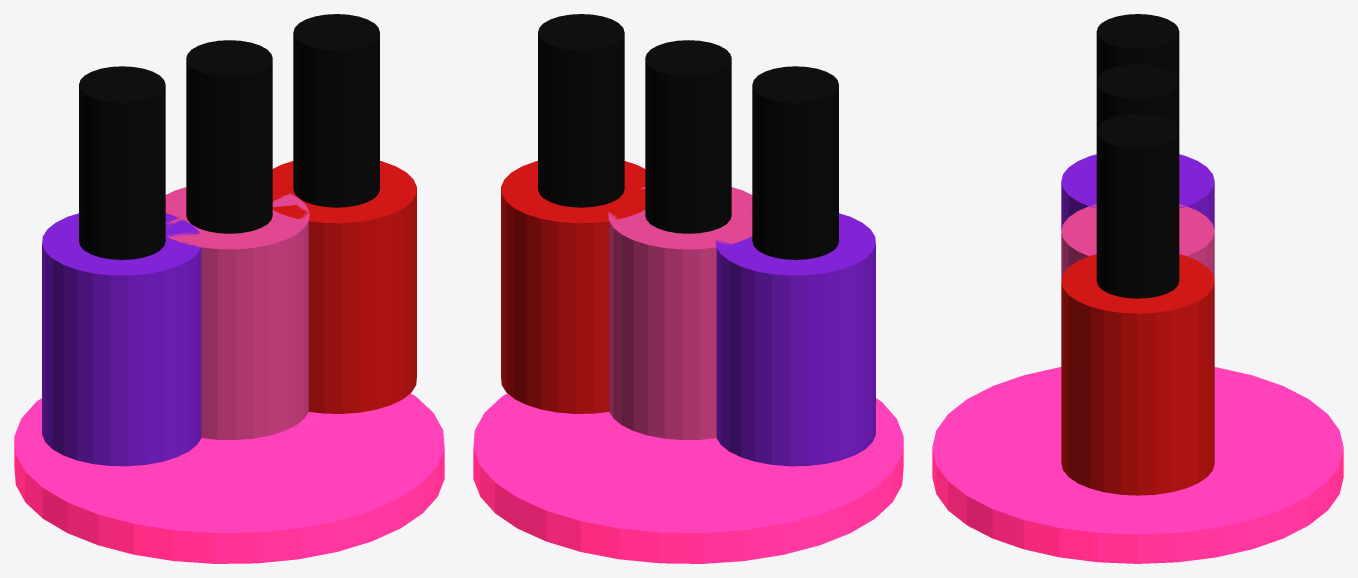
The model's file is beauty_nail_set.dae.
3 renders of one model, left to right at view 1: azimuth 30°, elevation 25°; view 2: azimuth 150°, elevation 25°; view 3: azimuth 270°, elevation 25°, orthographic. The views are drawn at different scales.
Parts seen in each view (by area): view 1: 03_19_Popular_Beauty_Nail_Set_ROOT_base, 03_19_Popular_Beauty_Nail_Set_part_05, 03_19_Popular_Beauty_Nail_Set_part_03, 03_19_Popular_Beauty_Nail_Set_part_01, 03_19_Popular_Beauty_Nail_Set_part_02, 03_19_Popular_Beauty_Nail_Set_part_06, 03_19_Popular_Beauty_Nail_Set_part_04; view 2: 03_19_Popular_Beauty_Nail_Set_ROOT_base, 03_19_Popular_Beauty_Nail_Set_part_05, 03_19_Popular_Beauty_Nail_Set_part_03, 03_19_Popular_Beauty_Nail_Set_part_01, 03_19_Popular_Beauty_Nail_Set_part_02, 03_19_Popular_Beauty_Nail_Set_part_06, 03_19_Popular_Beauty_Nail_Set_part_04; view 3: 03_19_Popular_Beauty_Nail_Set_ROOT_base, 03_19_Popular_Beauty_Nail_Set_part_03, 03_19_Popular_Beauty_Nail_Set_part_04, 03_19_Popular_Beauty_Nail_Set_part_06, 03_19_Popular_Beauty_Nail_Set_part_02, 03_19_Popular_Beauty_Nail_Set_part_05, 03_19_Popular_Beauty_Nail_Set_part_01.
Boxes of the visible parts, box(x1,y1,x2,y2) form: 03_19_Popular_Beauty_Nail_Set_ROOT_base: box(14, 393, 444, 563); 03_19_Popular_Beauty_Nail_Set_part_05: box(42, 213, 201, 466); 03_19_Popular_Beauty_Nail_Set_part_03: box(272, 161, 416, 413); 03_19_Popular_Beauty_Nail_Set_part_01: box(165, 187, 309, 439); 03_19_Popular_Beauty_Nail_Set_part_02: box(186, 40, 272, 233); 03_19_Popular_Beauty_Nail_Set_part_06: box(79, 66, 165, 259); 03_19_Popular_Beauty_Nail_Set_part_04: box(293, 14, 379, 207); 03_19_Popular_Beauty_Nail_Set_ROOT_base: box(473, 393, 903, 563); 03_19_Popular_Beauty_Nail_Set_part_05: box(715, 213, 875, 466); 03_19_Popular_Beauty_Nail_Set_part_03: box(501, 161, 645, 413); 03_19_Popular_Beauty_Nail_Set_part_01: box(608, 187, 752, 439); 03_19_Popular_Beauty_Nail_Set_part_02: box(645, 40, 731, 233); 03_19_Popular_Beauty_Nail_Set_part_06: box(752, 66, 838, 259); 03_19_Popular_Beauty_Nail_Set_part_04: box(538, 14, 624, 207); 03_19_Popular_Beauty_Nail_Set_ROOT_base: box(932, 367, 1343, 563); 03_19_Popular_Beauty_Nail_Set_part_03: box(1061, 254, 1214, 495); 03_19_Popular_Beauty_Nail_Set_part_04: box(1096, 114, 1179, 298); 03_19_Popular_Beauty_Nail_Set_part_06: box(1096, 14, 1179, 80); 03_19_Popular_Beauty_Nail_Set_part_02: box(1096, 64, 1179, 130); 03_19_Popular_Beauty_Nail_Set_part_05: box(1061, 154, 1214, 229); 03_19_Popular_Beauty_Nail_Set_part_01: box(1061, 204, 1214, 279).
Bounding box in the file's own units: 0.76 × 0.8064 × 0.76.
